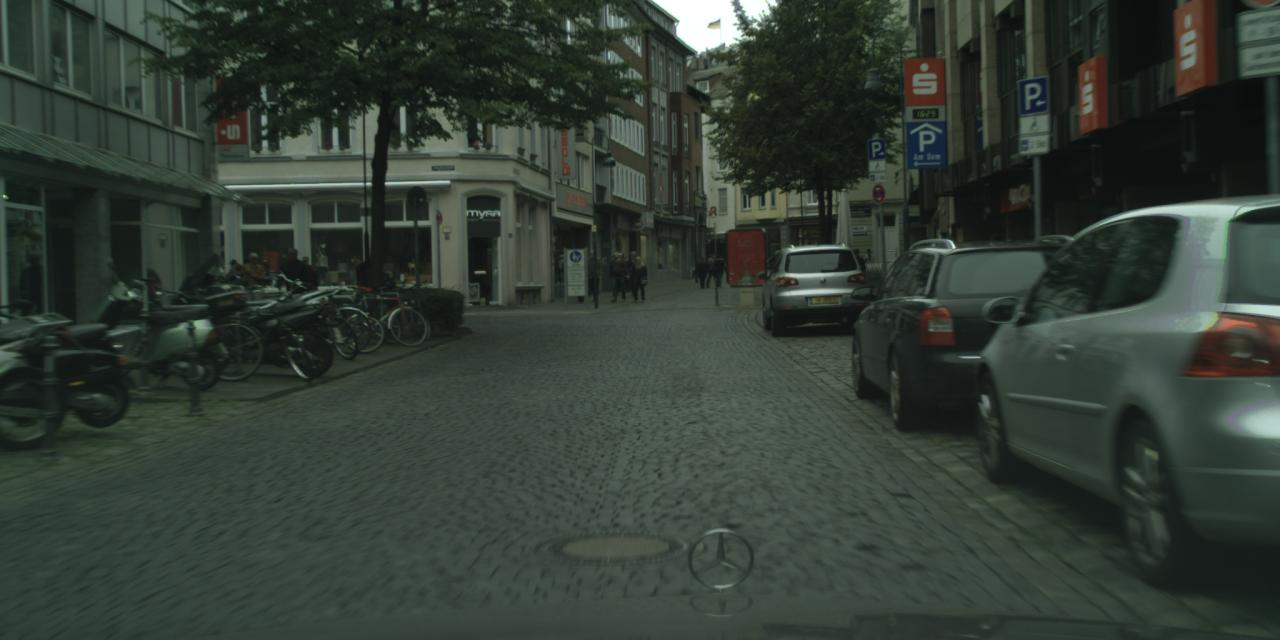ped: (278, 248, 308, 324), (239, 250, 266, 320), (296, 256, 320, 314), (222, 258, 244, 314), (584, 248, 604, 301), (847, 249, 867, 299), (606, 251, 626, 301), (630, 256, 648, 301), (624, 250, 642, 294), (862, 248, 877, 288), (617, 252, 632, 290), (705, 252, 718, 286), (695, 255, 708, 288), (713, 255, 726, 286)
